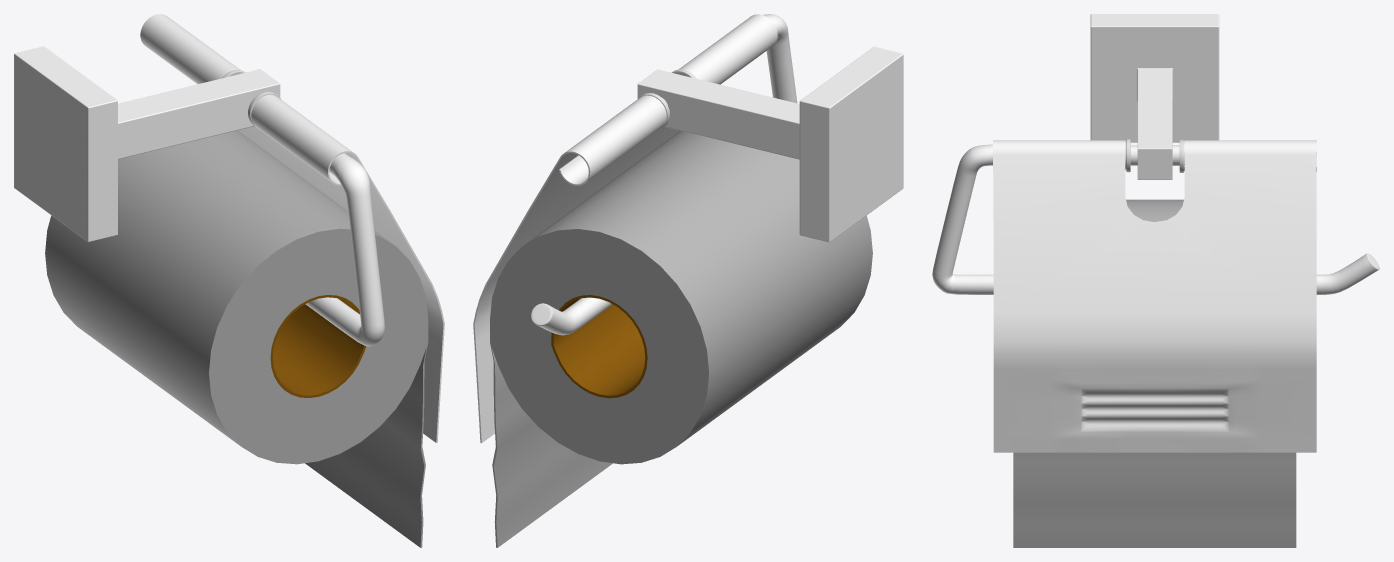
Rendered from toilet_paper_roll_holder_with_cover.glb.
The picture shows the model from 3 angles, left to right: view 1: azimuth 30°, elevation 25°; view 2: azimuth 150°, elevation 25°; view 3: azimuth 270°, elevation 25°; orthographic projection. The views are drawn at different scales.
Parts seen in each view (by area): view 1: Cylinder, Cube, Plane, Cylinder.001; view 2: Cylinder, Cube, Plane, Cylinder.001; view 3: Plane, Cylinder, Cube, Cylinder.001.
Part boxes in pixels (x1,y1,x2,y2): Cylinder: [45, 130, 428, 547]; Cube: [14, 46, 280, 242]; Plane: [140, 14, 444, 442]; Cylinder.001: [305, 153, 384, 346]; Cylinder: [490, 130, 872, 547]; Cube: [637, 46, 903, 242]; Plane: [473, 14, 777, 443]; Cylinder.001: [531, 14, 797, 335]; Plane: [993, 140, 1316, 452]; Cylinder: [1013, 199, 1296, 547]; Cube: [1090, 14, 1219, 179]; Cylinder.001: [932, 144, 1379, 294].
Size of the model in its own units: 212 by 322 by 316.
